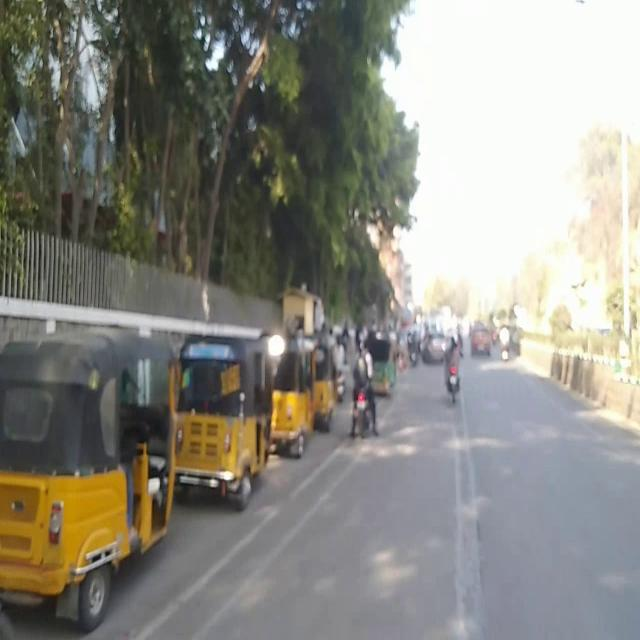auto: (0, 319, 179, 619), (175, 319, 282, 514), (262, 312, 316, 461), (365, 320, 401, 399), (318, 325, 336, 437)
road: (0, 500, 640, 640), (255, 366, 640, 500)
